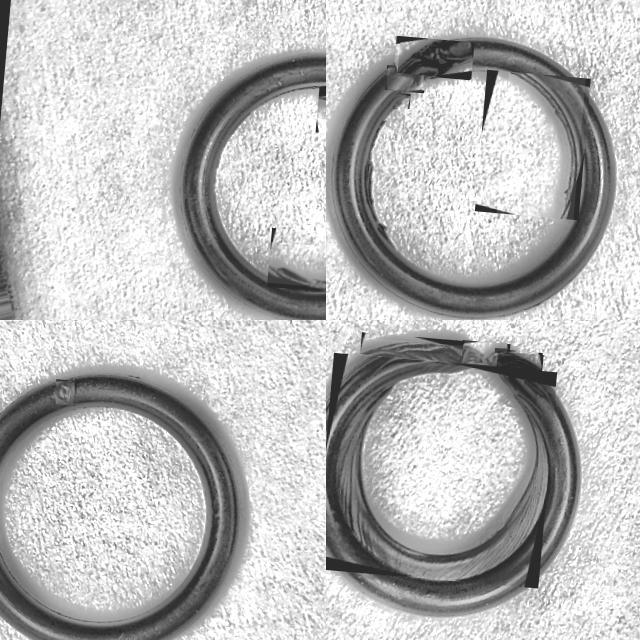切割缺陷: (358, 342, 462, 377), (397, 39, 471, 76), (495, 352, 540, 388), (386, 67, 423, 90), (54, 381, 74, 405)
挤压缺陷: (461, 343, 506, 373)
裂纹: (326, 362, 547, 580), (509, 71, 576, 218), (364, 119, 397, 251), (268, 265, 326, 287), (394, 95, 410, 107)
